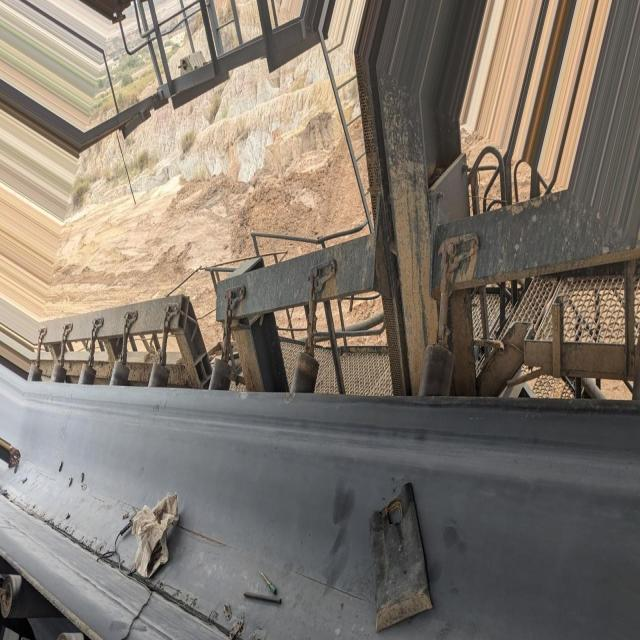Tear: (0, 476, 259, 640)
